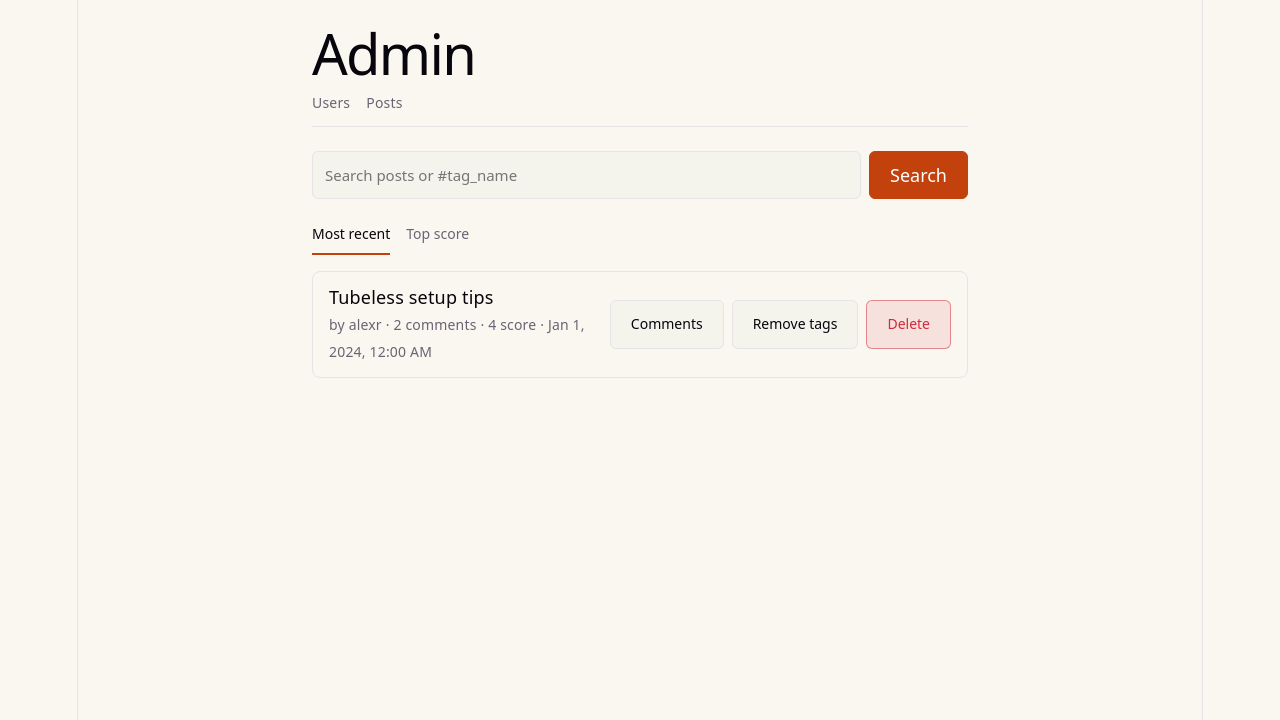
AdminPosts › deletes a post through the confirm dialog and removes it from the list
The image size is (1280, 720).
Expected: the link "Tubeless setup tips" is shown, [329,285,494,309]
Click the button "Delete".
click(909, 325)  # box [866,300,951,349]
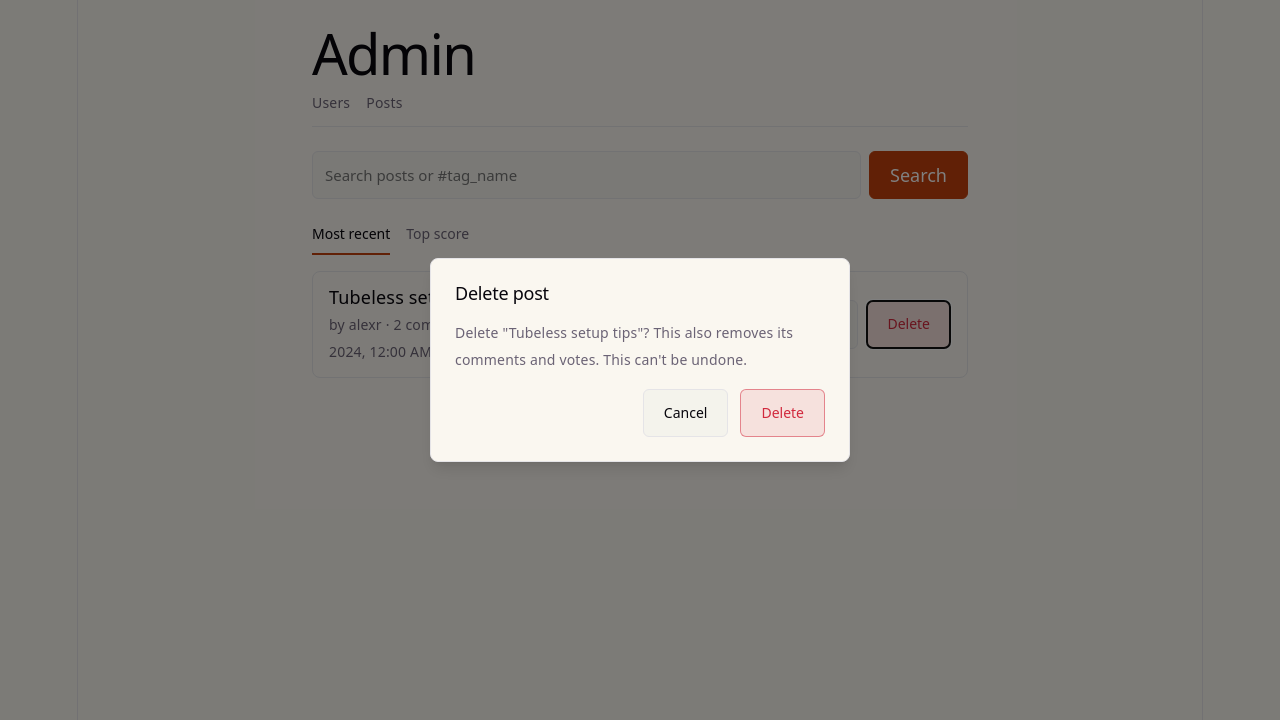
Click the button "Delete".
click(783, 413)  # box [740,389,825,437]
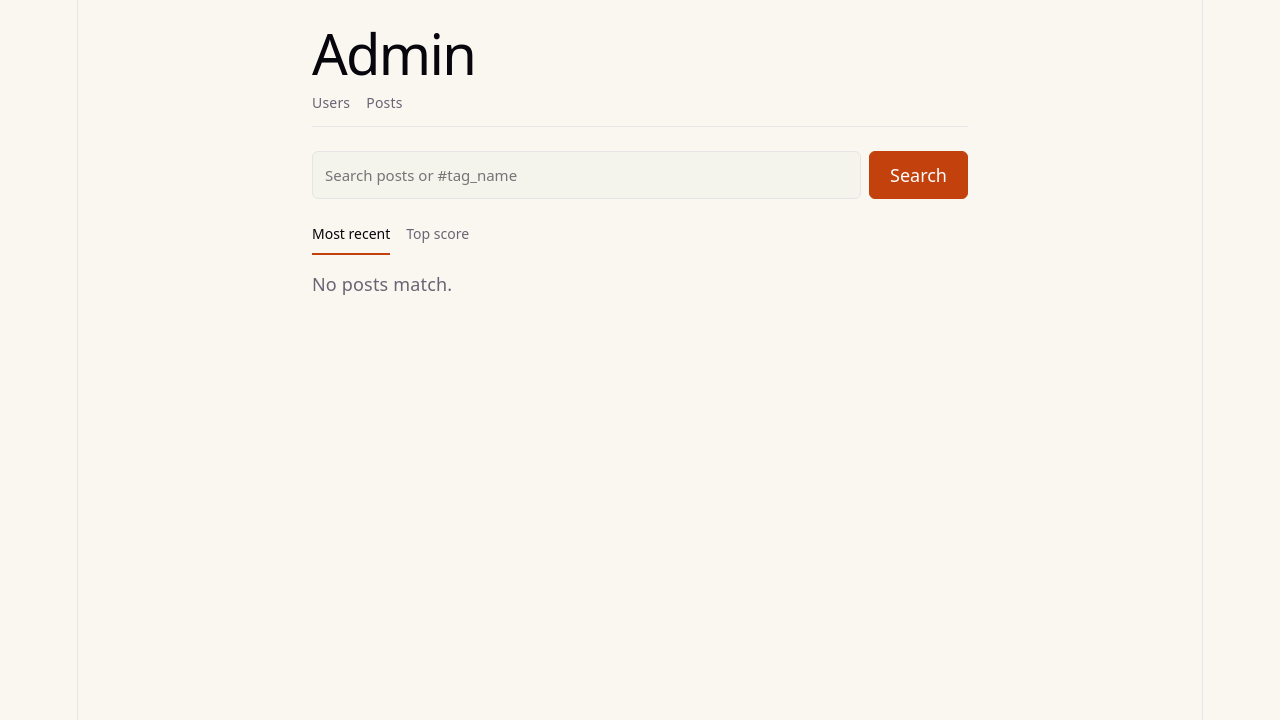
Now the text "No posts match." is shown, box [312,272,452,296]
